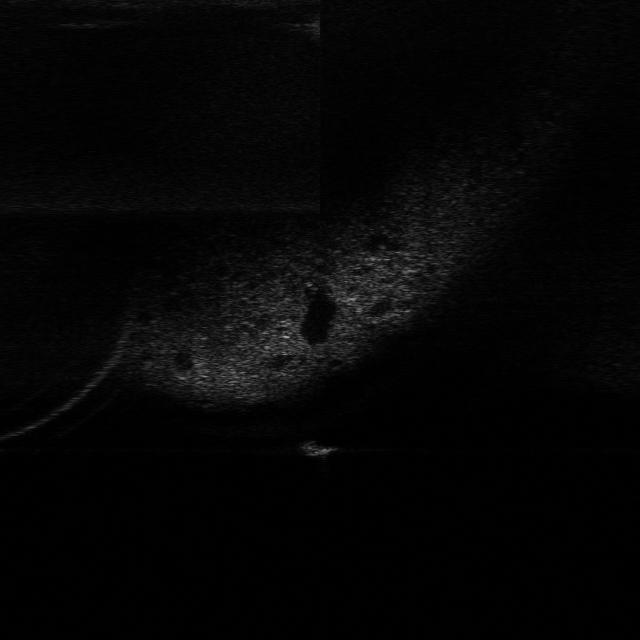cube: (296, 438, 340, 460)
